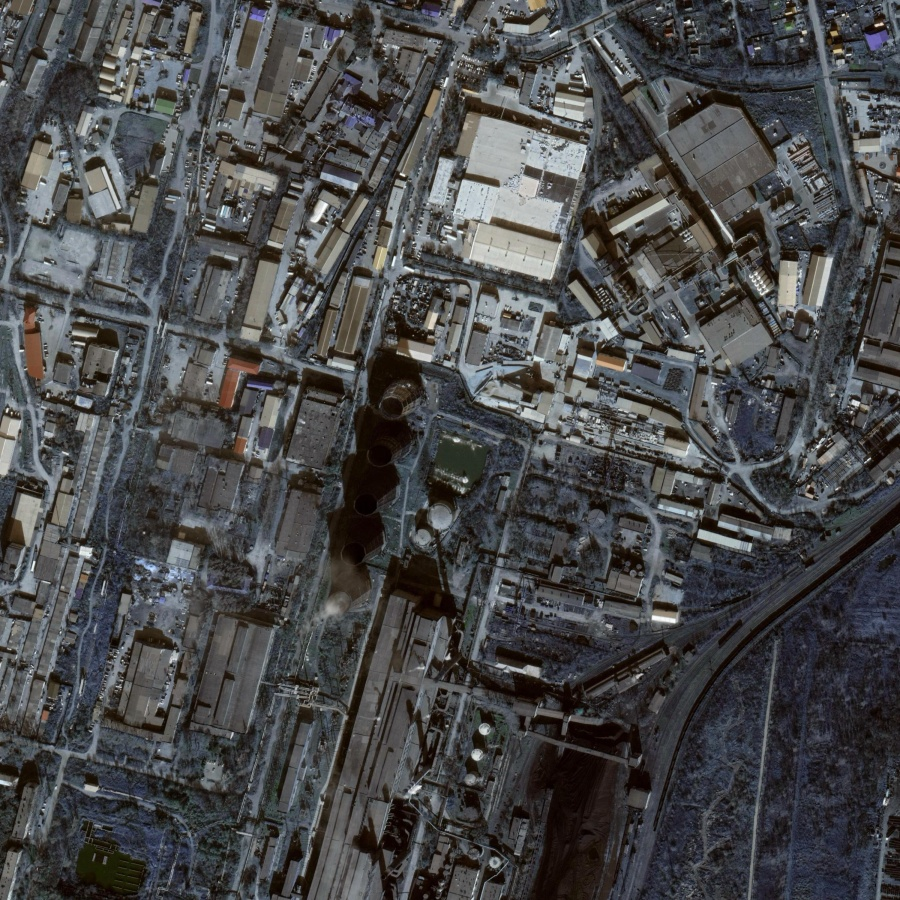PowerPlant: (295, 331, 465, 670)
